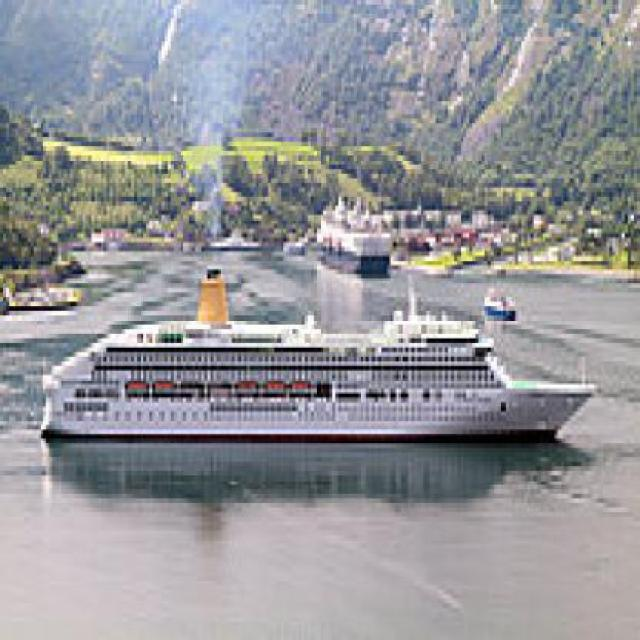cruise: (34, 266, 611, 467)
